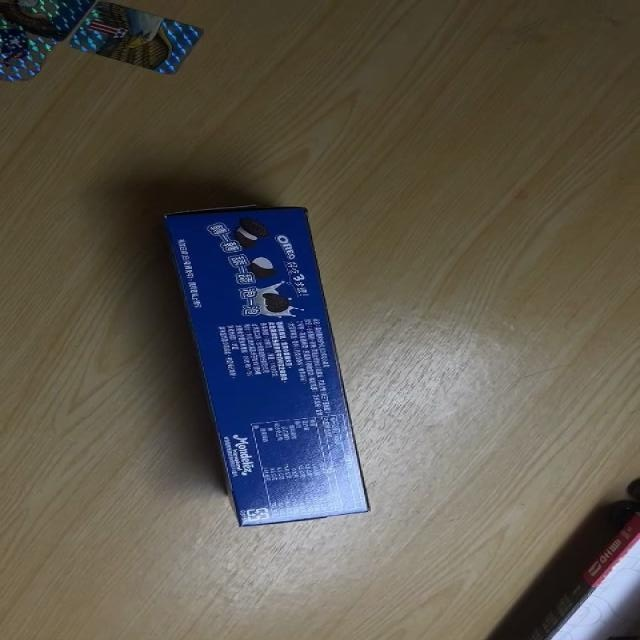Oreo: (165, 208, 372, 530)
